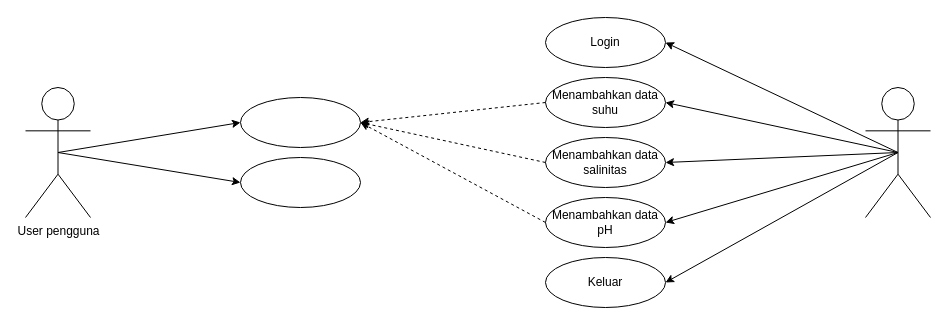
Some shapes in this 948 by 325 pixel diagram are drawn without their labels. Each missing label, with the centre of its shape:
"Admin" belongs at (897,152).
"Melihat data monitoring" belongs at (300,122).
"Menampilkan hasil data monitoring" belongs at (300,182).
